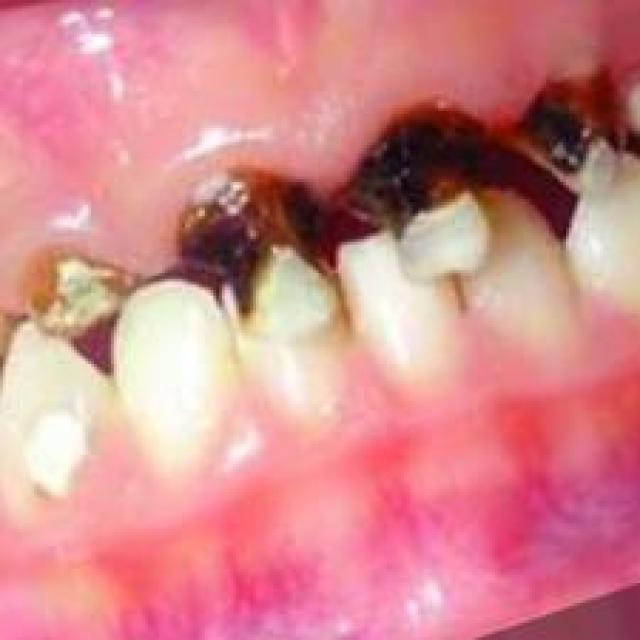caries: (170, 164, 336, 322), (353, 99, 496, 249), (514, 58, 630, 202), (25, 239, 135, 341)
